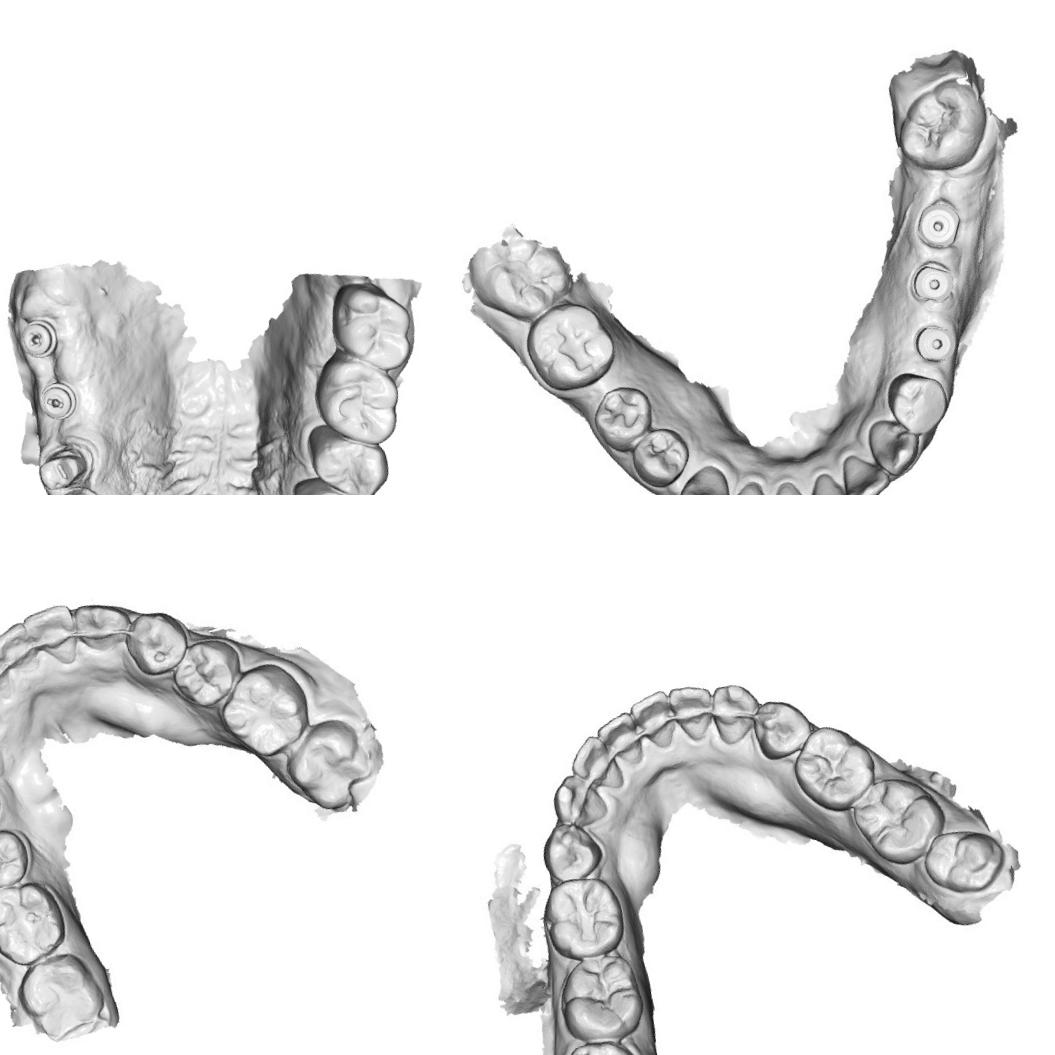canine: (545, 766, 612, 834), (705, 676, 766, 748), (70, 591, 130, 660), (866, 413, 920, 470), (677, 467, 730, 495)
crown: (34, 447, 92, 495)
implant: (905, 312, 967, 371), (912, 196, 968, 255), (907, 255, 960, 306)
implant_minus: (35, 378, 81, 424)
implant_plus: (15, 314, 62, 364)
incisor: (563, 728, 630, 799), (664, 678, 724, 747), (24, 602, 84, 670), (626, 686, 684, 755), (590, 708, 648, 774), (0, 621, 44, 685), (838, 449, 890, 495), (805, 470, 859, 495), (760, 479, 818, 495), (710, 481, 776, 495)
molar: (461, 224, 582, 332), (883, 72, 1001, 182), (304, 342, 410, 454), (212, 659, 320, 767), (844, 768, 952, 876), (320, 272, 420, 381), (276, 715, 380, 819), (520, 296, 623, 400), (784, 716, 885, 822), (549, 947, 651, 1050), (14, 948, 110, 1046), (536, 870, 632, 967), (914, 818, 1014, 904), (0, 872, 70, 972), (550, 1030, 658, 1055)
premolar: (162, 633, 246, 717), (307, 423, 397, 495), (119, 604, 195, 680), (747, 690, 820, 764), (535, 816, 608, 886), (885, 365, 953, 439), (591, 380, 656, 454), (626, 428, 690, 486), (0, 822, 34, 896), (291, 472, 380, 495)
